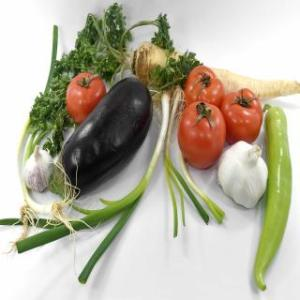eggplant: (57, 74, 157, 198)
garlic: (219, 137, 271, 215), (21, 140, 56, 196)
tomato: (175, 100, 229, 172), (221, 86, 265, 148), (65, 70, 107, 126), (184, 64, 225, 116)
